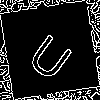U: (24, 24, 81, 84)
